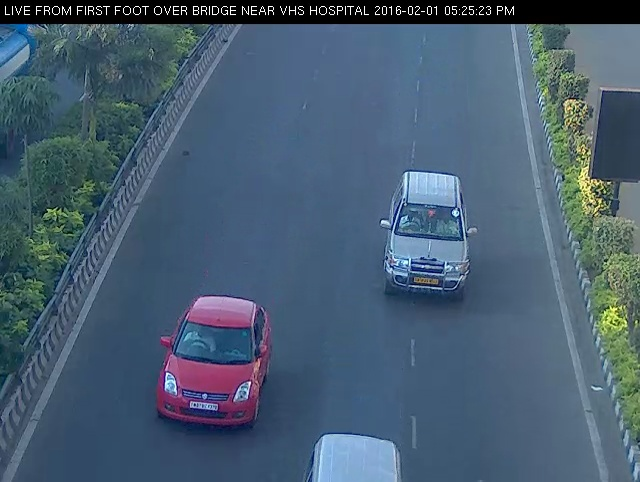Car: (144, 290, 278, 432), (374, 159, 484, 313), (289, 419, 412, 482)
